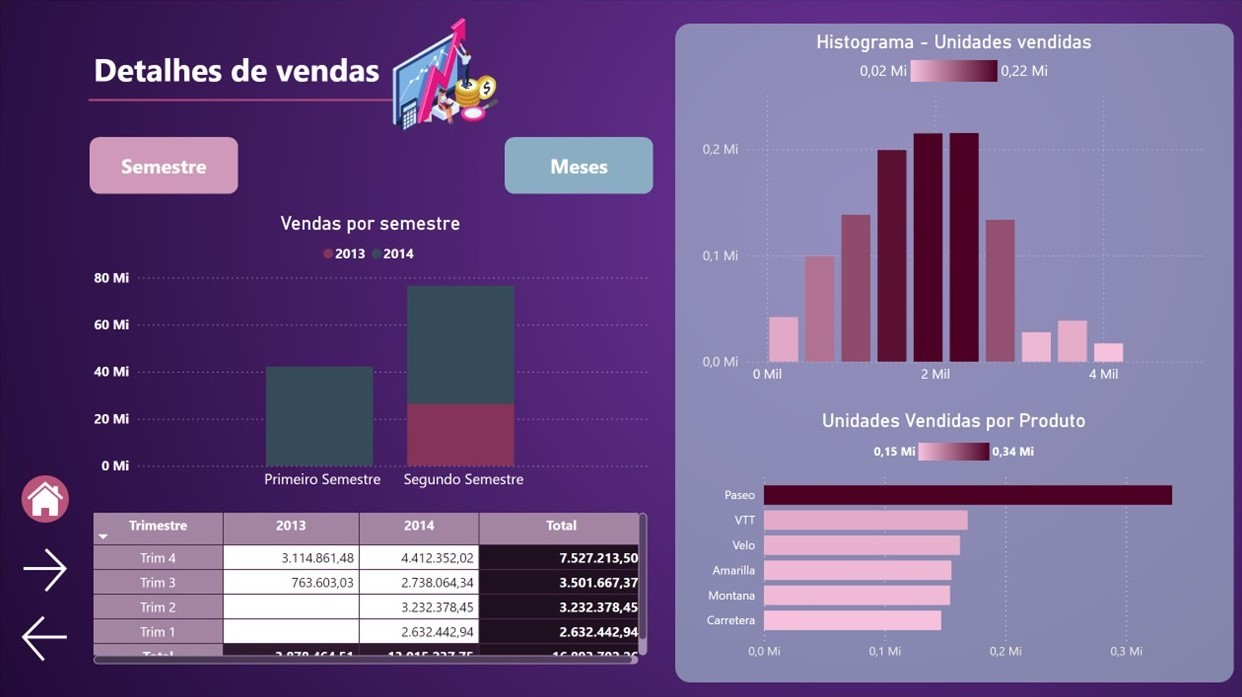

This screenshot's page, from the dashboard's own definition file:
{"tool":"powerbi","page":{"name":"Detalhes","canvas":[1280,720],"ordinal":2},"visuals":[{"type":"image","box":[0,0,1280,720.2],"z":0},{"type":"shape","box":[694.6,30.5,566.7,668],"z":1000},{"type":"actionButton","title":"Botão - Next","box":[26.6,555.9,58,56.1],"z":1000,"group":"g1"},{"type":"group","id":"g1","title":"Grupo 1","box":[26.6,555.9,58,128.9],"z":2000},{"type":"actionButton","box":[26.6,621.8,58,63],"z":2000,"group":"g1"},{"type":"textbox","title":"Detalhes de vendas","box":[100.4,54.1,353.2,83.6],"z":3000},{"type":"image","box":[399.4,18.7,125.9,125.9],"z":4000},{"type":"clusteredBarChart","title":"Unidades Vendidas por Produto","fields":{"Category":["financials.Product"],"Y":["Sum(financials.Units Sold)"]},"box":[717.2,421.1,521.4,263.7],"z":5000},{"type":"clusteredColumnChart","title":"Histograma - Unidades vendidas","fields":{"Category":["financials.Buckets"],"Y":["Sum(financials.Units Sold)"]},"box":[717.2,37.4,521.4,368],"z":6000},{"type":"columnChart","title":"Vendas por semestre","fields":{"Category":["financials.Semestres"],"Y":["Sum(financials. Sales)"],"Series":["financials.Date.Variation.Hierarquia de datas.Ano"]},"box":[100.4,221.4,571.6,291.2],"z":7000},{"type":"pivotTable","fields":{"Rows":["financials.Date.Variation.Hierarquia de datas.Trimestre"],"Columns":["financials.Date.Variation.Hierarquia de datas.Ano"],"Values":["Sum(financials.Profit)"]},"box":[100.4,521.4,571.6,163.3],"z":8000},{"type":"actionButton","box":[100.8,145.2,150.7,57.6],"z":10000},{"type":"actionButton","box":[522,145.2,150.7,57.6],"z":11000},{"type":"image","box":[27,482,58,60],"z":11001}]}

Visuals, with their boxes in screenshot pixels (x1, y1, x2, y2), scaled from the page's 1280x720 canvas onto the 1242x697 screenshot:
image: (0, 0, 1241, 696)
shape: (674, 30, 1224, 676)
"Botão - Next" actionButton: (26, 538, 82, 592)
"Grupo 1" group: (26, 538, 82, 663)
actionButton: (26, 602, 82, 663)
"Detalhes de vendas" textbox: (97, 52, 440, 133)
image: (388, 18, 510, 140)
"Unidades Vendidas por Produto" clusteredBarChart: (696, 408, 1202, 663)
"Histograma - Unidades vendidas" clusteredColumnChart: (696, 36, 1202, 392)
"Vendas por semestre" columnChart: (97, 214, 652, 496)
pivotTable - financials.Date.Variation.Hierarquia de datas.Trimestre x financials.Date.Variation.Hierarquia de datas.Ano: (97, 505, 652, 663)
actionButton: (98, 141, 244, 196)
actionButton: (507, 141, 653, 196)
image: (26, 467, 82, 525)
